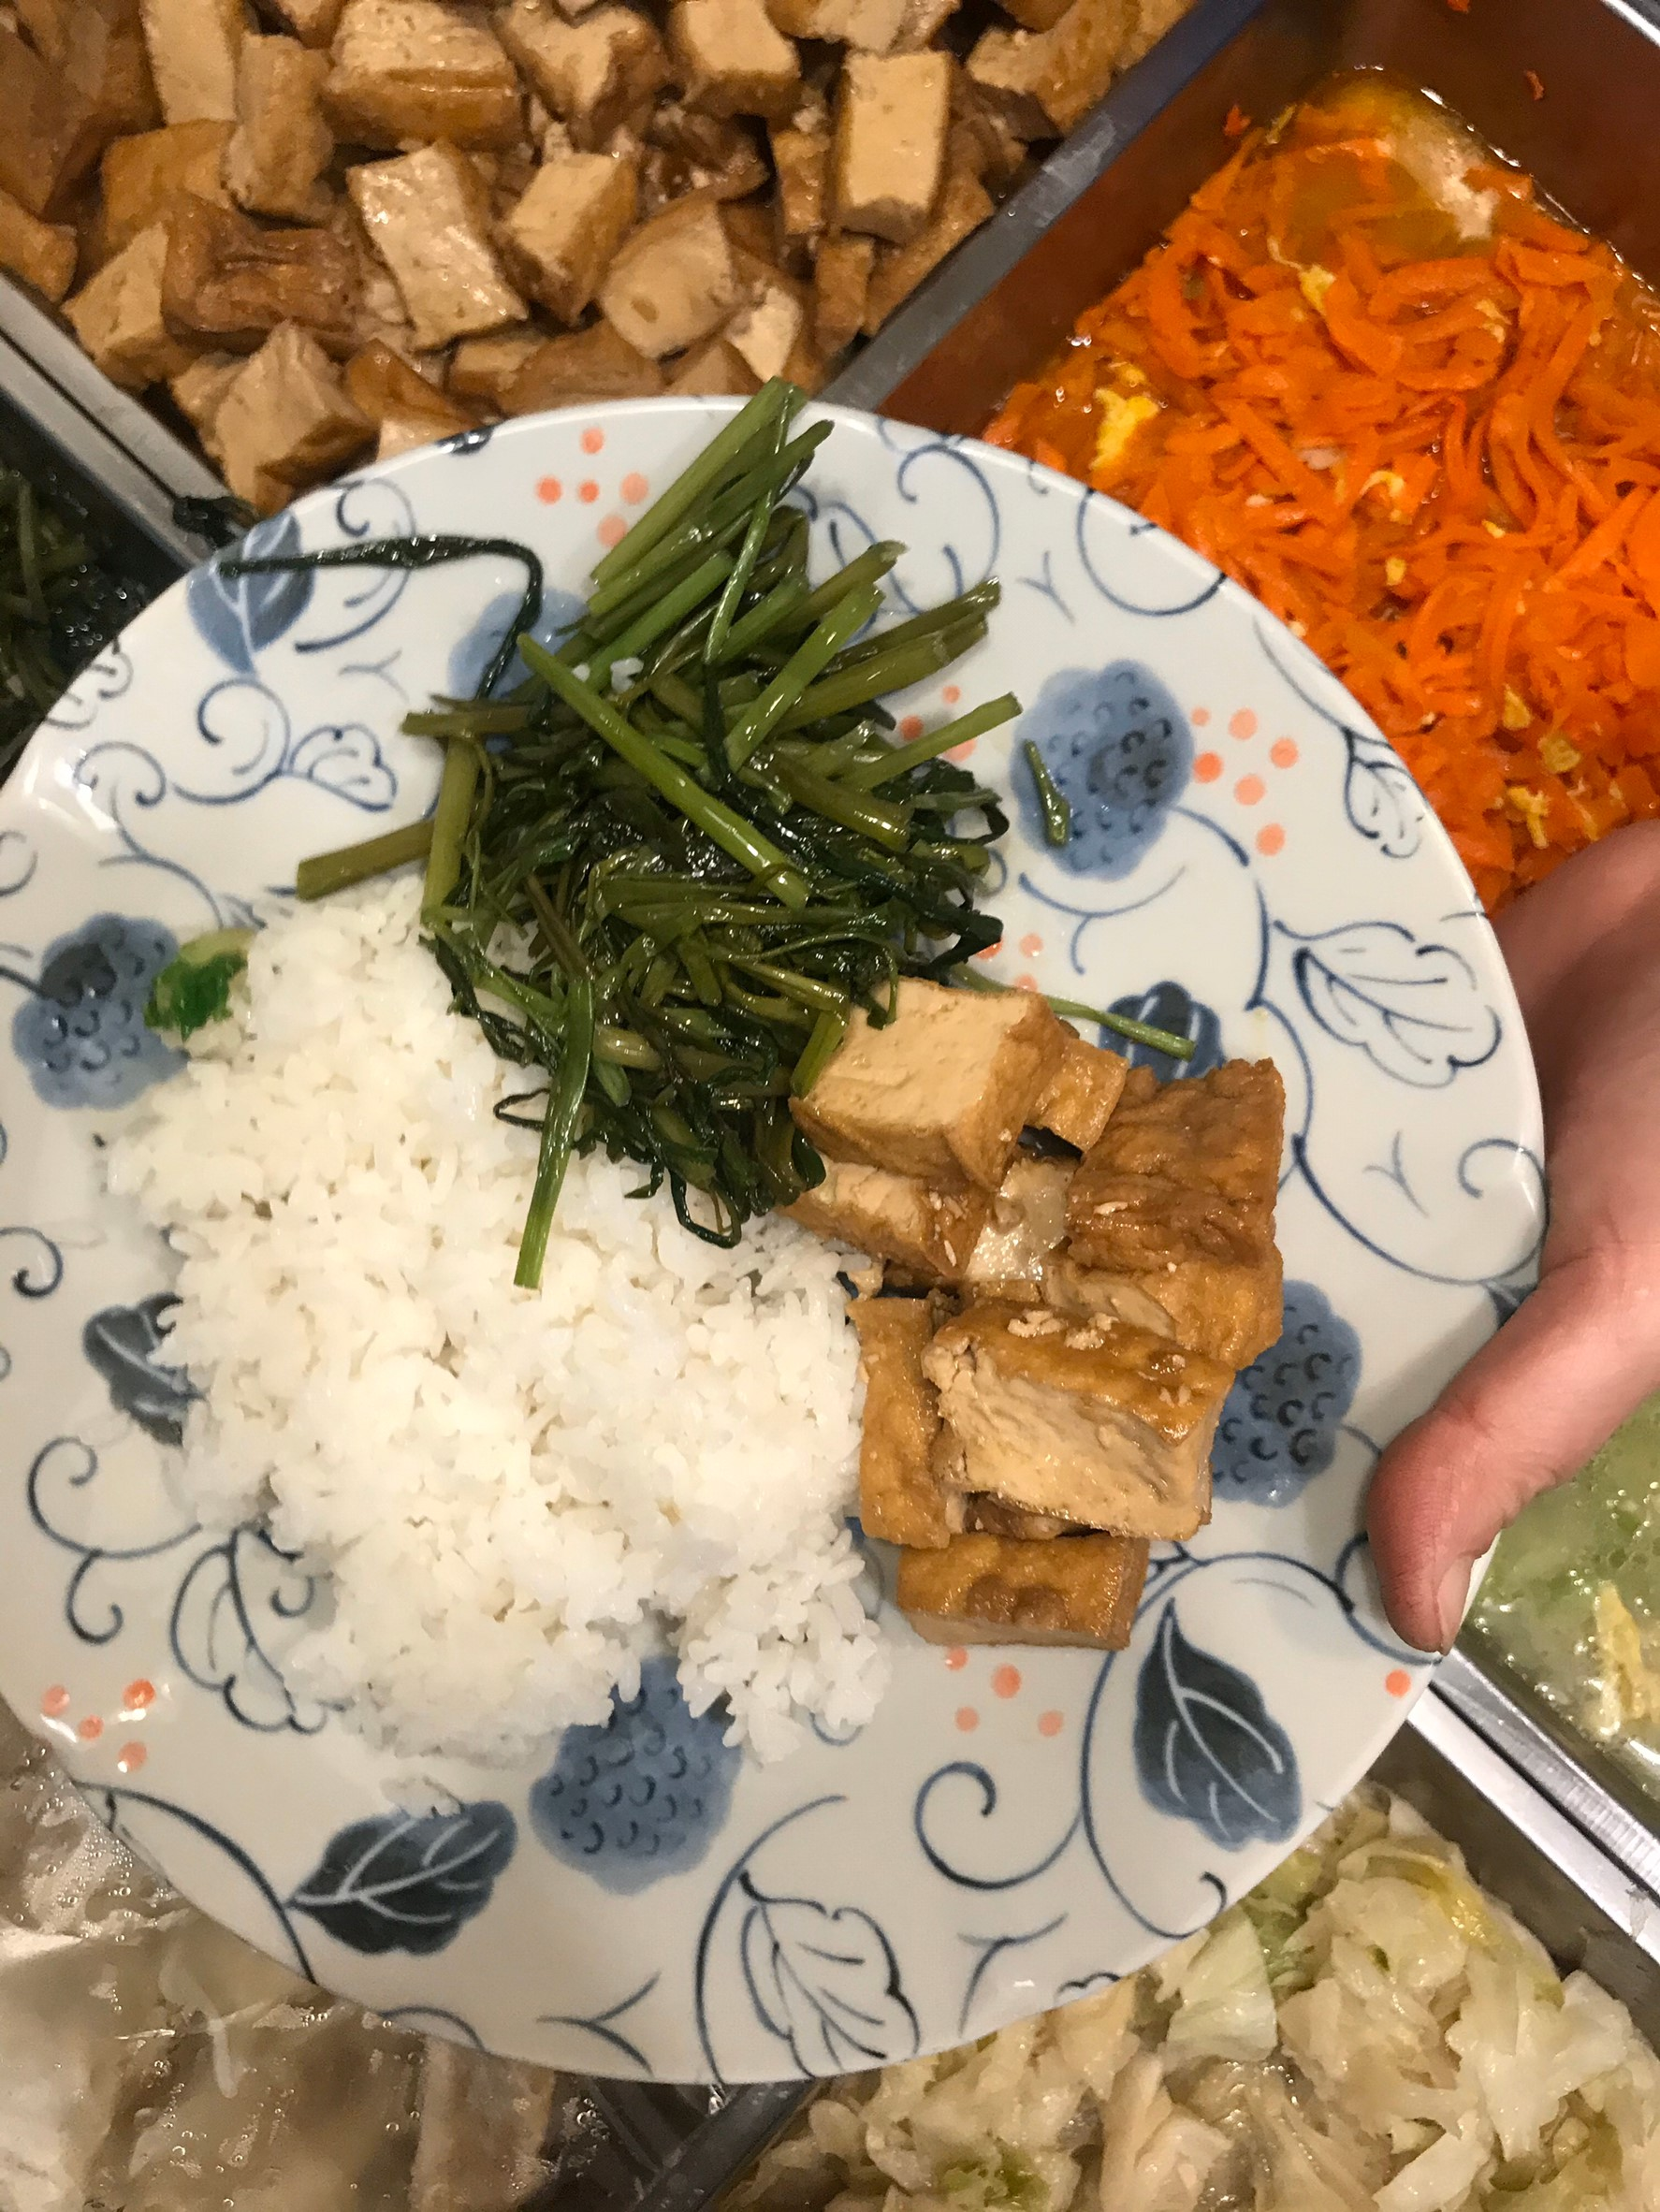carrot_eggs: (1205, 223, 1658, 621)
chinese_cabbage: (1151, 1982, 1601, 2212)
rice: (201, 1105, 821, 1675)
water_spinach: (497, 614, 889, 1008)
